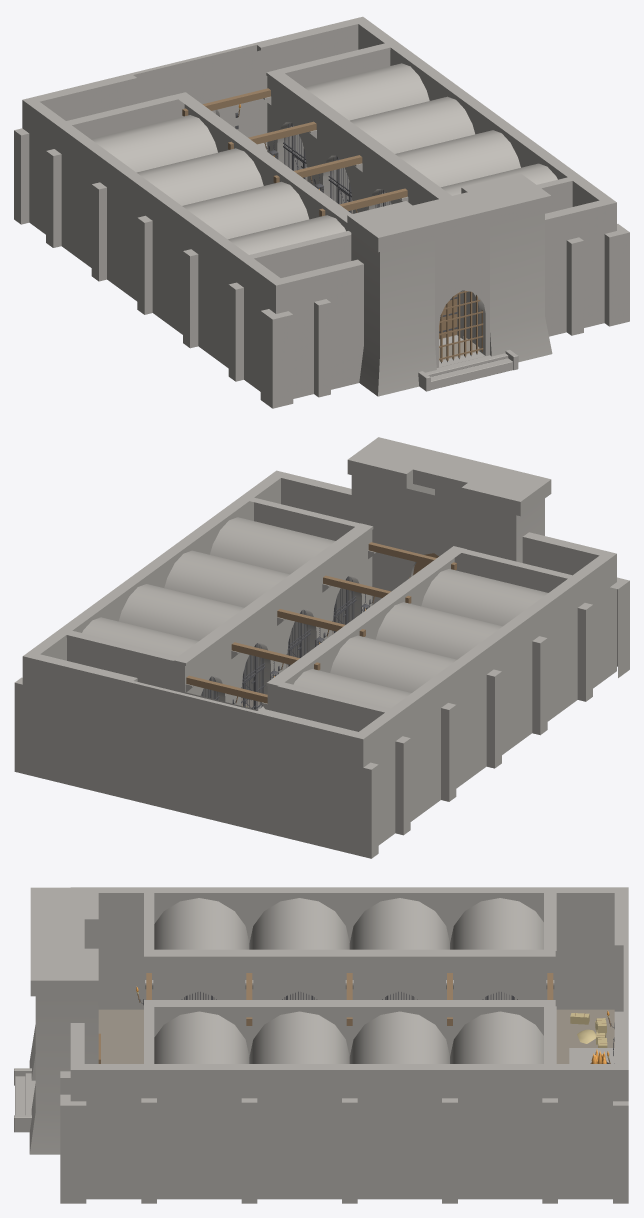
Rendered from Foso_V2_MEDIUM.dae.
3 views of the same model, one above another, from view 1: azimuth 30°, elevation 25°; view 2: azimuth 150°, elevation 25°; view 3: azimuth 270°, elevation 25° (orthographic). The views are drawn at different scales.
Parts seen in each view (by area): view 1: G_Torre_O_LOD2, G_Muro_O_LOD2, G_Torre_E_LOD2, G_Muro_E_LOD2, C04_Muros_LOD2, G_Arco_LOD2, N_Muro_O_LOD2, V_Muro_O_LOD2, N_Muro_Fondo_LOD2, C03_Muros_LOD2, C01_Muros_LOD2, C02_Muros_LOD2 (+30 smaller); view 2: N_Muro_O_LOD2, N_Muro_Fondo_LOD2, N_Muro_E_LOD2, C04_Muros_LOD2, G_Torre_E_LOD2, V_Muro_O_LOD2, G_Torre_O_LOD2, C02_Muros_LOD2, C01_Muros_LOD2, C03_Muros_LOD2, G_Arco_LOD2, C08_Muros_LOD2 (+30 smaller); view 3: C08_Muros_LOD2, C05_Muros_LOD2, C06_Muros_LOD2, C07_Muros_LOD2, N_Muro_E_LOD2, V_Muro_E_LOD2, G_Torre_E_LOD2, N_Muro_O_LOD2, V_Muro_O_LOD2, C04_Frente_LOD2, C01_Frente_LOD2, C03_Frente_LOD2 (+25 smaller).
Boxes of the visible parts, box(x1,y1,x2,y2) form: G_Torre_O_LOD2: box(347, 201, 437, 396); G_Muro_O_LOD2: box(260, 259, 363, 408); G_Torre_E_LOD2: box(461, 173, 552, 362); G_Muro_E_LOD2: box(545, 198, 629, 336); C04_Muros_LOD2: box(46, 95, 179, 267); G_Arco_LOD2: box(413, 192, 492, 367); N_Muro_O_LOD2: box(14, 73, 136, 234); V_Muro_O_LOD2: box(228, 231, 351, 391); N_Muro_Fondo_LOD2: box(131, 43, 260, 137); C03_Muros_LOD2: box(91, 156, 159, 301); C01_Muros_LOD2: box(183, 223, 250, 368); C02_Muros_LOD2: box(137, 190, 205, 334); N_Muro_O_LOD2: box(255, 708, 398, 858); N_Muro_Fondo_LOD2: box(131, 681, 258, 830); N_Muro_E_LOD2: box(14, 630, 137, 799); C04_Muros_LOD2: box(277, 677, 444, 835); G_Torre_E_LOD2: box(347, 437, 436, 605); V_Muro_O_LOD2: box(462, 549, 610, 701); G_Torre_O_LOD2: box(461, 465, 551, 562); C02_Muros_LOD2: box(479, 610, 535, 768); C01_Muros_LOD2: box(525, 577, 581, 735); C03_Muros_LOD2: box(434, 644, 489, 801); G_Arco_LOD2: box(406, 451, 491, 579); C08_Muros_LOD2: box(59, 597, 177, 689); C08_Muros_LOD2: box(450, 1006, 557, 1203); C05_Muros_LOD2: box(149, 1064, 257, 1203); C06_Muros_LOD2: box(249, 1064, 357, 1203); C07_Muros_LOD2: box(349, 1064, 457, 1203); N_Muro_E_LOD2: box(550, 1011, 628, 1203); V_Muro_E_LOD2: box(84, 1007, 156, 1203); G_Torre_E_LOD2: box(29, 948, 98, 1154); N_Muro_O_LOD2: box(550, 887, 628, 1011); V_Muro_O_LOD2: box(85, 887, 154, 1009); C04_Frente_LOD2: box(450, 949, 555, 999); C01_Frente_LOD2: box(144, 949, 249, 999); C03_Frente_LOD2: box(349, 949, 449, 999).
Bounding box in the file's own units: 26 × 35.32 × 11.1.
